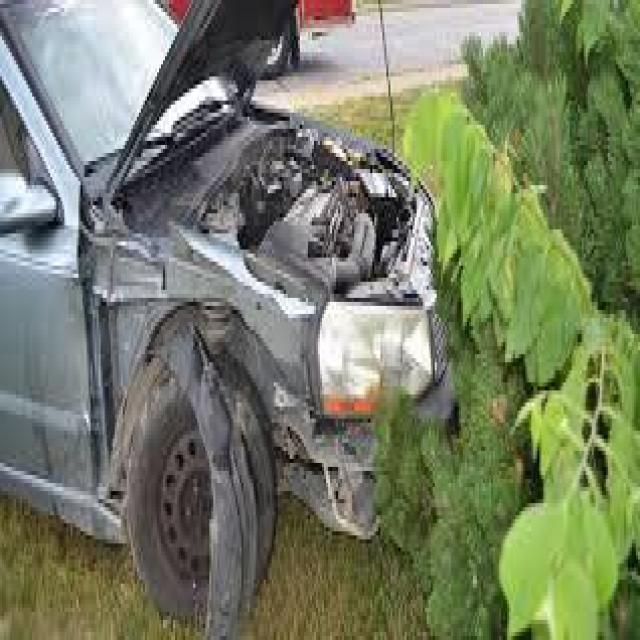damaged: (76, 92, 447, 544)
